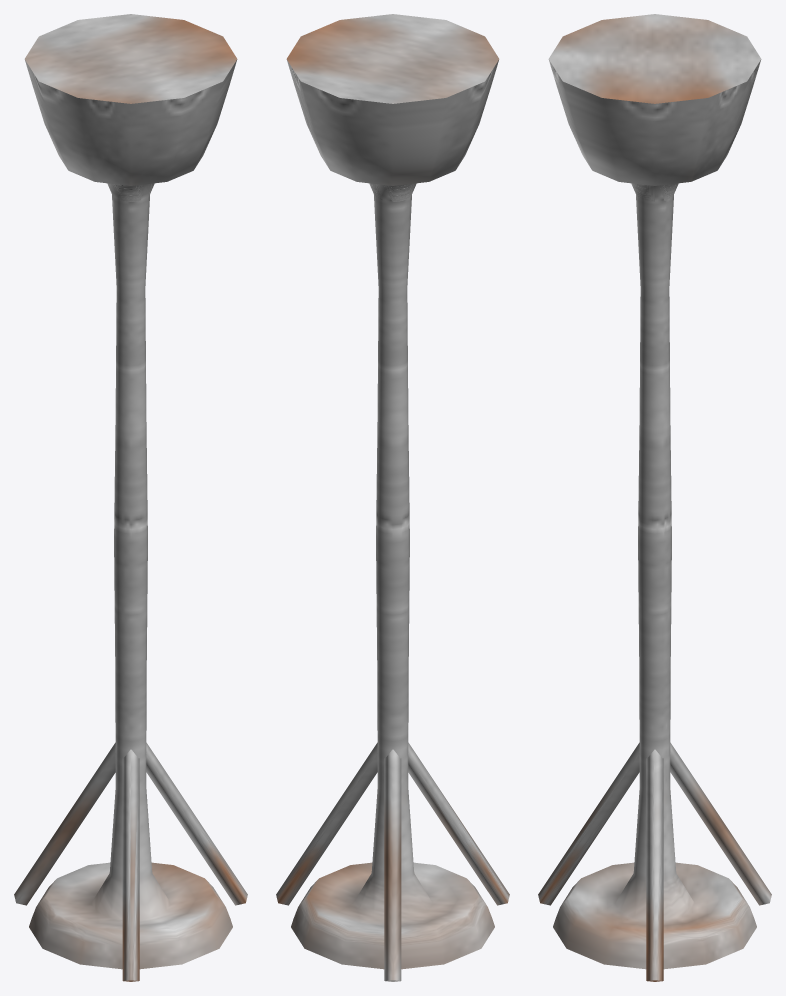
File: torch.obj
The picture shows the model from 3 angles, left to right: view 1: azimuth 30°, elevation 25°; view 2: azimuth 150°, elevation 25°; view 3: azimuth 270°, elevation 25°; orthographic projection.
Bounding box in the file's own units: 0.5671 × 2.26 × 0.5494.
Materials: 1 (1 with a texture image).
